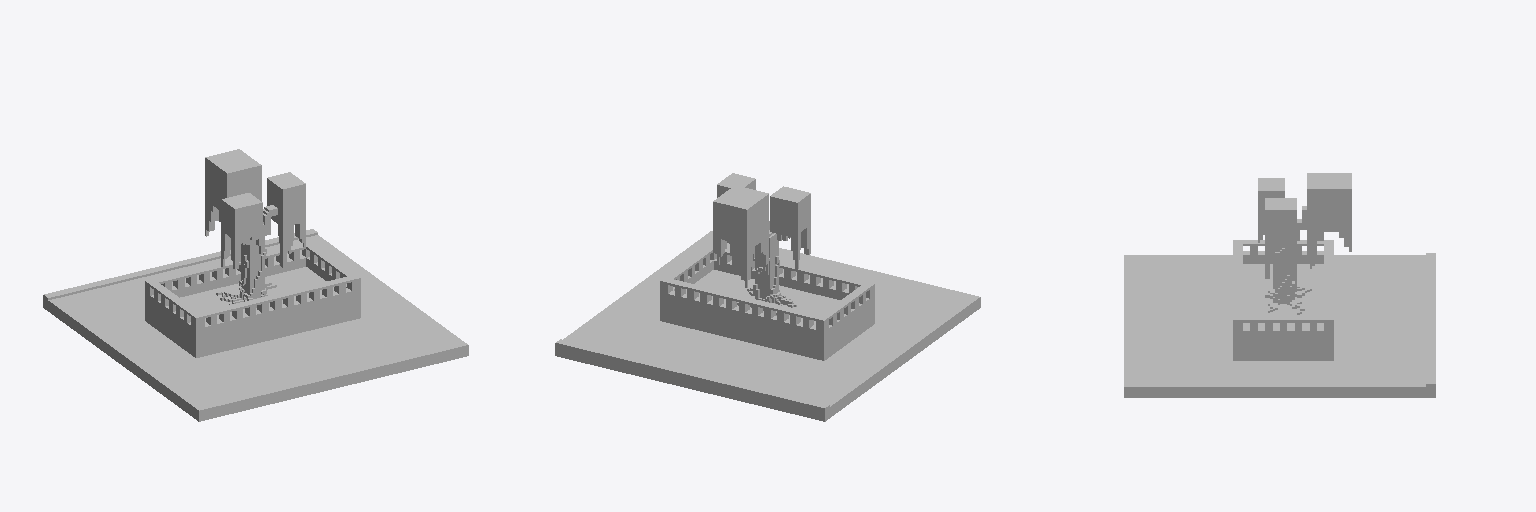
File: SakuraTree.obj
3 renders of one model, left to right at view 1: azimuth 30°, elevation 25°; view 2: azimuth 150°, elevation 25°; view 3: azimuth 270°, elevation 25°, orthographic.
Visible parts, largest first — view 1: object 1; view 2: object 1; view 3: object 1.
Boxes of the visible parts, x1=… form: object 1: x1=43, y1=149, x2=468, y2=421; object 1: x1=555, y1=173, x2=980, y2=421; object 1: x1=1124, y1=173, x2=1435, y2=397.
Bounding box in the file's own units: 12.6 × 6.8 × 12.6.